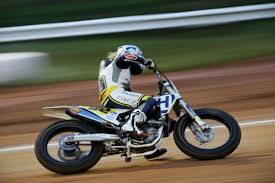helmet: (118, 44, 152, 73)
